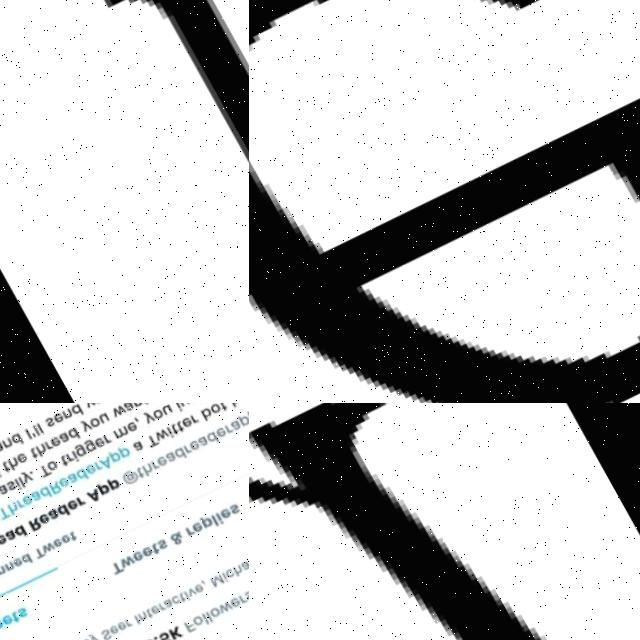1: (159, 625, 173, 640)
5: (143, 633, 157, 640)
E: (249, 80, 640, 403)
L: (79, 0, 249, 403)
U: (249, 403, 640, 640)
